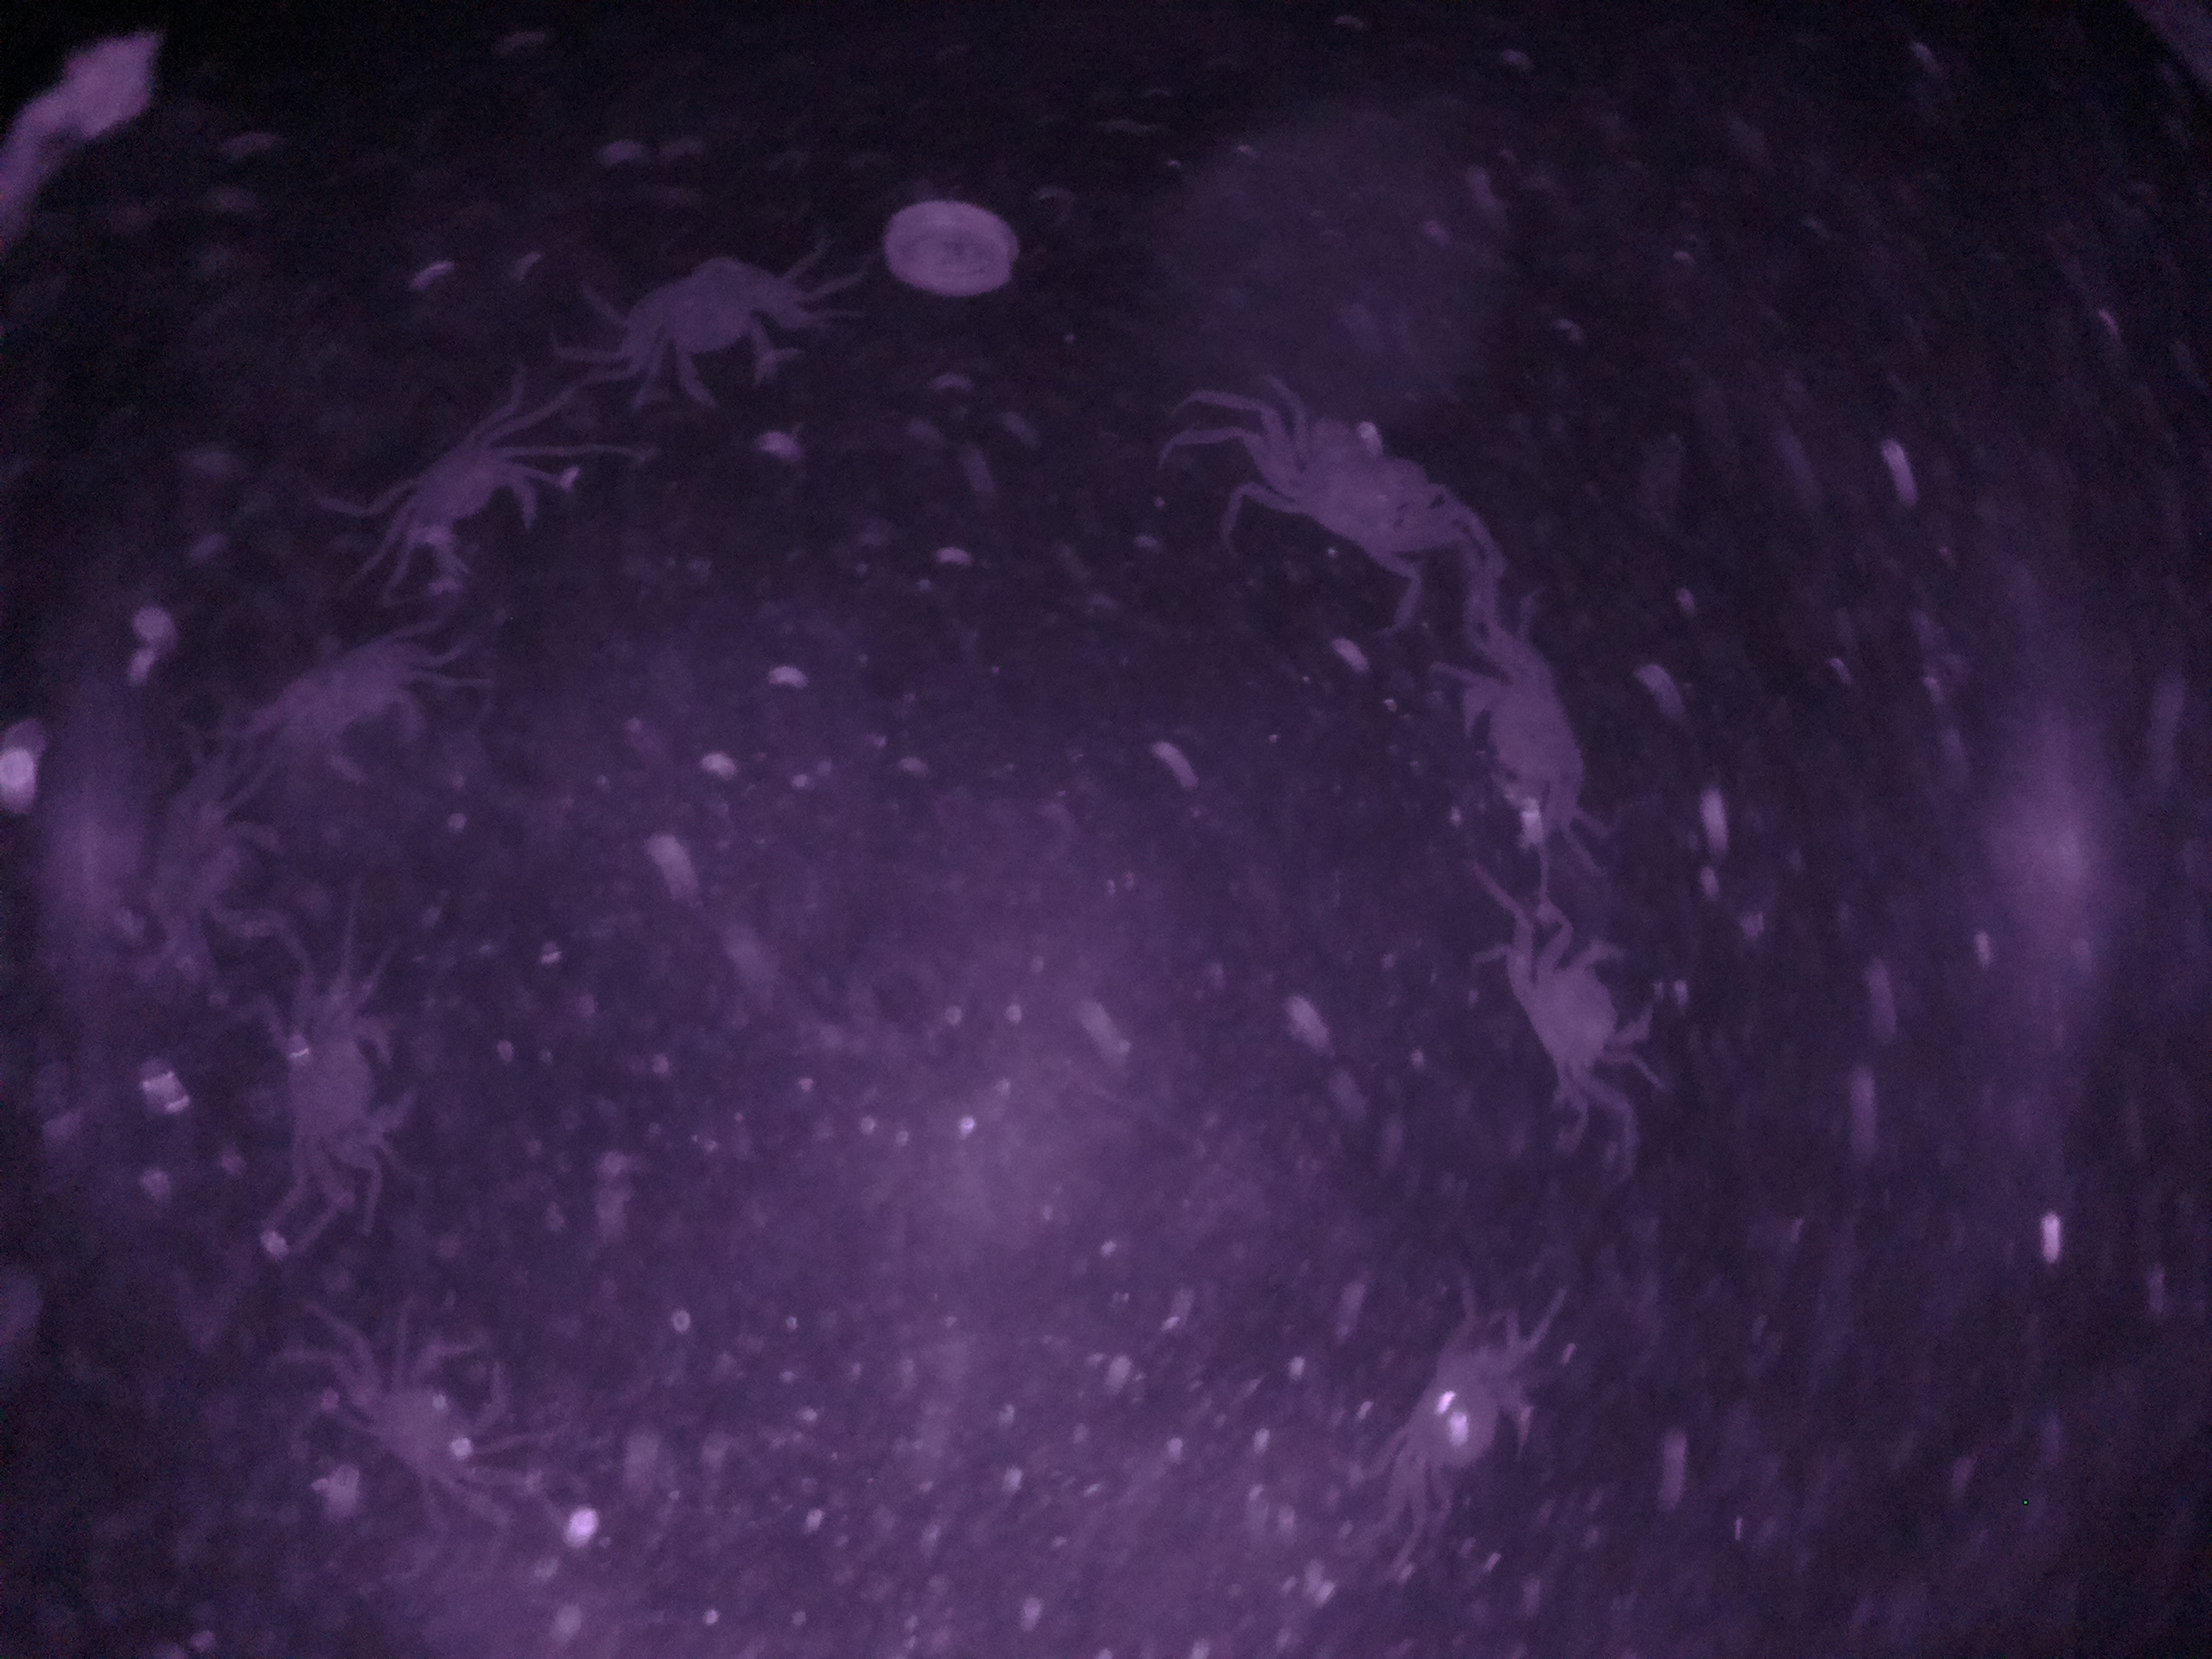Crab: (1461, 887, 1676, 1150), (1212, 399, 1486, 603)
